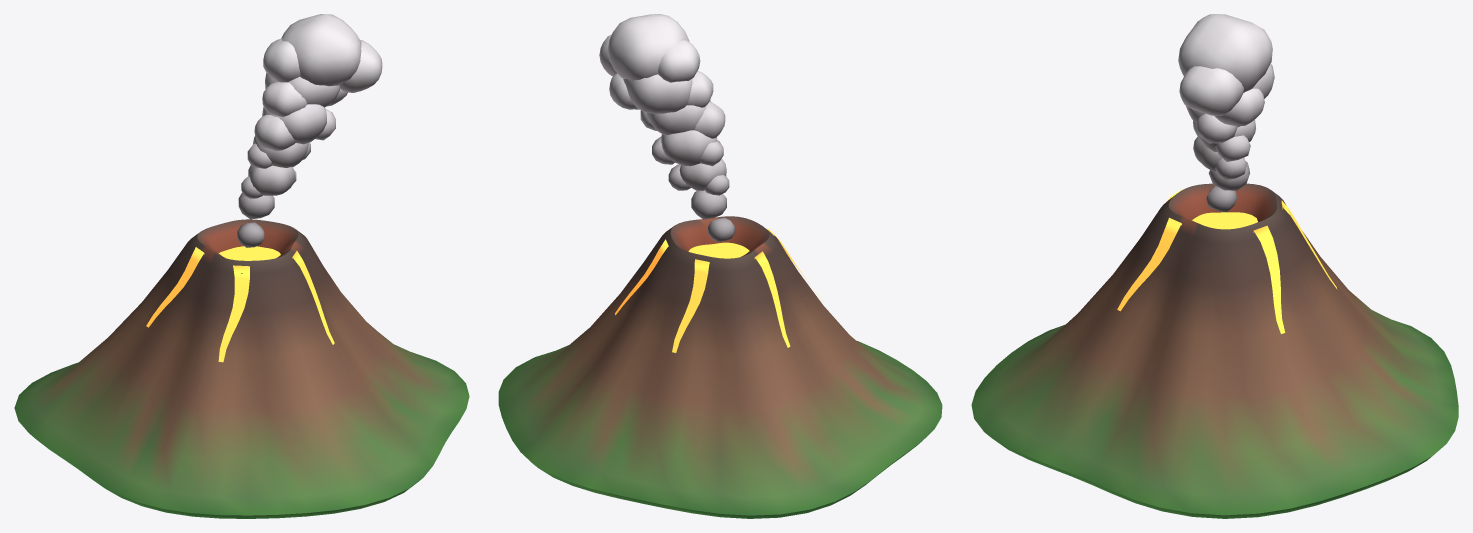
Rendered from volcano.glb.
3 renders of one model, left to right at view 1: azimuth 30°, elevation 25°; view 2: azimuth 150°, elevation 25°; view 3: azimuth 270°, elevation 25°, orthographic. The views are drawn at different scales.
Parts seen in each view (by area): view 1: Volcano; view 2: Volcano; view 3: Volcano.
Boxes of the visible parts, <box> form: Volcano: <box>14,14,469,518</box>; Volcano: <box>498,14,942,518</box>; Volcano: <box>971,14,1458,518</box>.
Bounding box in the file's own units: 124 × 121 × 124.
